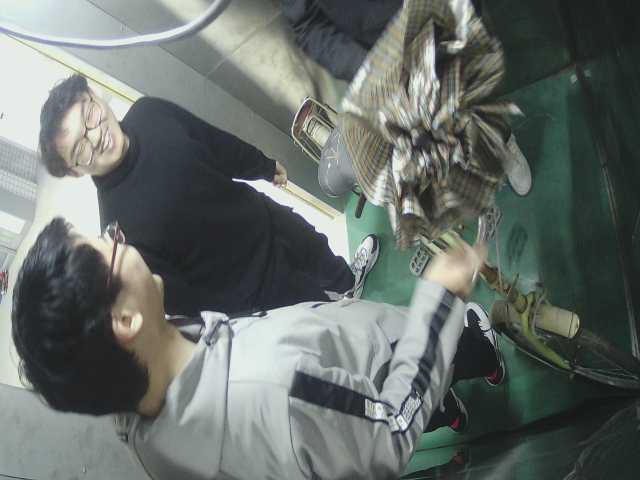bicycle: (293, 95, 636, 392)
person: (11, 225, 490, 464), (38, 67, 369, 309), (274, 1, 535, 211)
